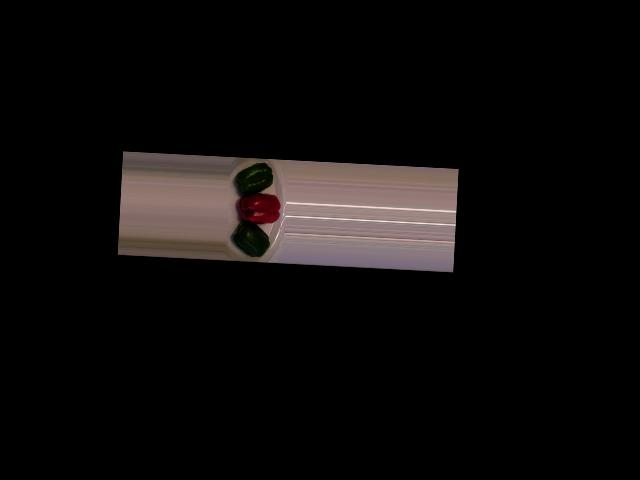bell_pepper: (228, 221, 275, 260)
